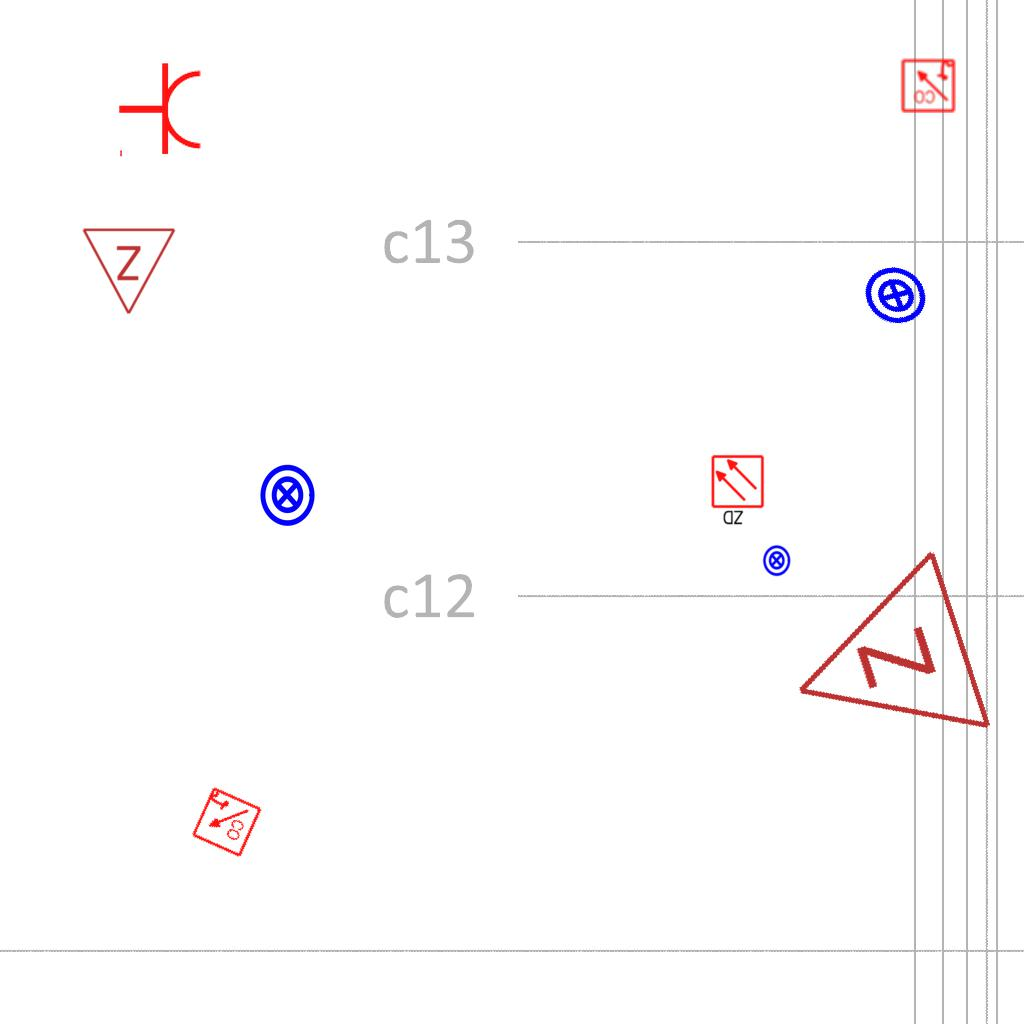ROA_Rauchmelder_optisch_mit_Signalgeber_(Sockelsirene): (189, 785, 263, 859), (900, 57, 956, 113)
Schukosteckdose_einfach: (117, 61, 204, 161)
Taster_beleuchtet: (851, 250, 941, 340), (254, 462, 320, 528), (760, 544, 793, 577)
ZD_Melder_in_Zwischendecke_mit_Revisionsoeffnung_mind_40_x_40_cm: (710, 454, 767, 528)
Zimmersignalleuchte: (756, 542, 1008, 792), (81, 221, 179, 321)
